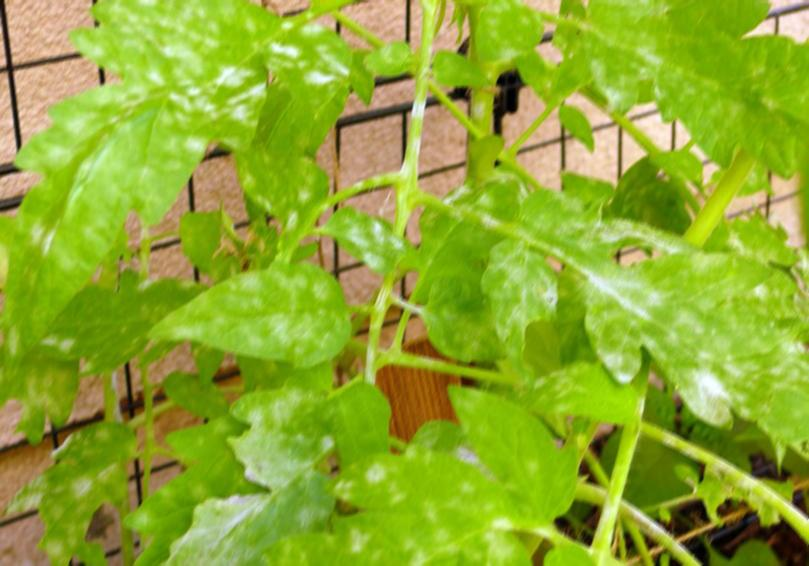Tomato mold leaf: (0, 3, 296, 487), (486, 187, 809, 498), (252, 384, 591, 566), (536, 0, 809, 162), (124, 259, 371, 364), (335, 206, 427, 277)
